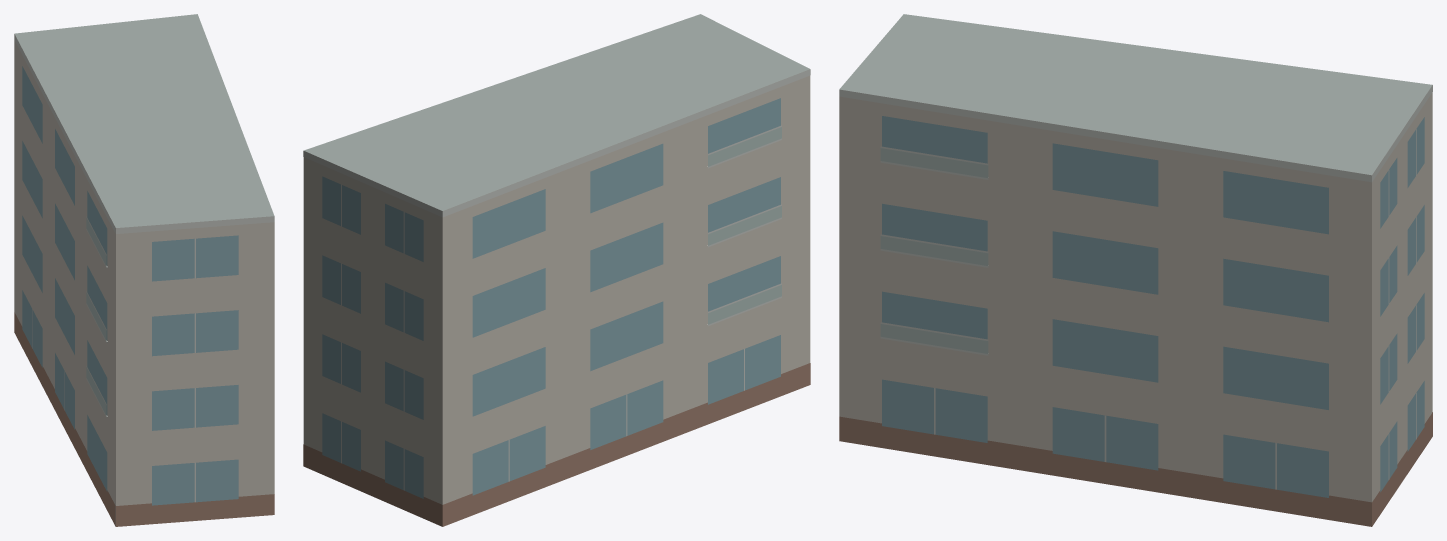
The model's file is survey-upis-32645248.glb.
The picture shows the model from 3 angles, left to right: view 1: azimuth 30°, elevation 25°; view 2: azimuth 150°, elevation 25°; view 3: azimuth 270°, elevation 25°; orthographic projection. The views are drawn at different scales.
Parts seen in each view (by area): view 1: survey-upis-32645248.tmp; view 2: survey-upis-32645248.tmp; view 3: survey-upis-32645248.tmp.
Part boxes in pixels (x1,y1,x2,y2): survey-upis-32645248.tmp: (14, 14, 274, 526); survey-upis-32645248.tmp: (303, 14, 810, 526); survey-upis-32645248.tmp: (839, 14, 1432, 526).
Size of the model in its own units: 12.01 by 12.2 by 18.67.
